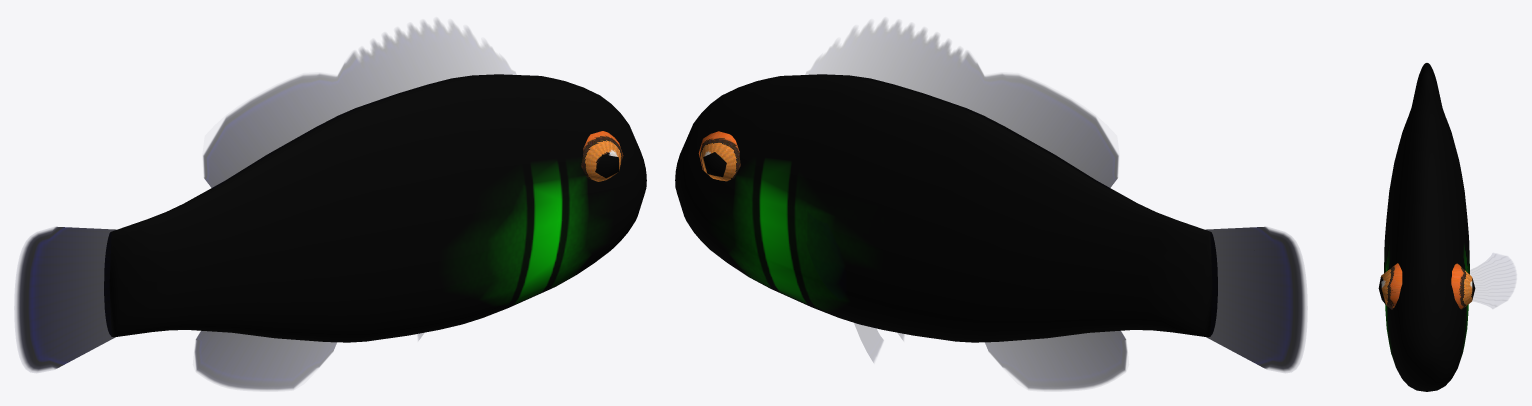
Rendered from clown_orange_lod1.glb.
3 renders of one model, left to right at view 1: azimuth 30°, elevation 25°; view 2: azimuth 150°, elevation 25°; view 3: azimuth 270°, elevation 25°, orthographic. The views are drawn at different scales.
Visible parts, largest first — view 1: Body, FinDorsal, FinCaudal, FinAnal, EyeR; view 2: Body, FinDorsal, FinCaudal, FinAnal, EyeL, FinPelvicL; view 3: Body, EyeR, EyeL, FinPectoralL.
Part boxes in pixels (left/top/right/bottom): Body: left=104, top=74, right=646, bottom=342; FinDorsal: left=203, top=20, right=515, bottom=188; FinCaudal: left=15, top=227, right=117, bottom=372; FinAnal: left=194, top=331, right=336, bottom=390; EyeR: left=581, top=131, right=623, bottom=181; Body: left=675, top=74, right=1217, bottom=342; FinDorsal: left=806, top=20, right=1118, bottom=188; FinCaudal: left=1204, top=227, right=1306, bottom=372; FinAnal: left=985, top=330, right=1127, bottom=390; EyeL: left=698, top=131, right=740, bottom=181; FinPelvicL: left=854, top=322, right=883, bottom=361; Body: left=1384, top=63, right=1469, bottom=391; EyeR: left=1378, top=263, right=1402, bottom=309; EyeL: left=1451, top=263, right=1475, bottom=309; FinPectoralL: left=1470, top=254, right=1515, bottom=306.
Bounding box in the file's own units: 1 × 0.5195 × 0.2844.
Materials: 4 (3 with a texture image).
